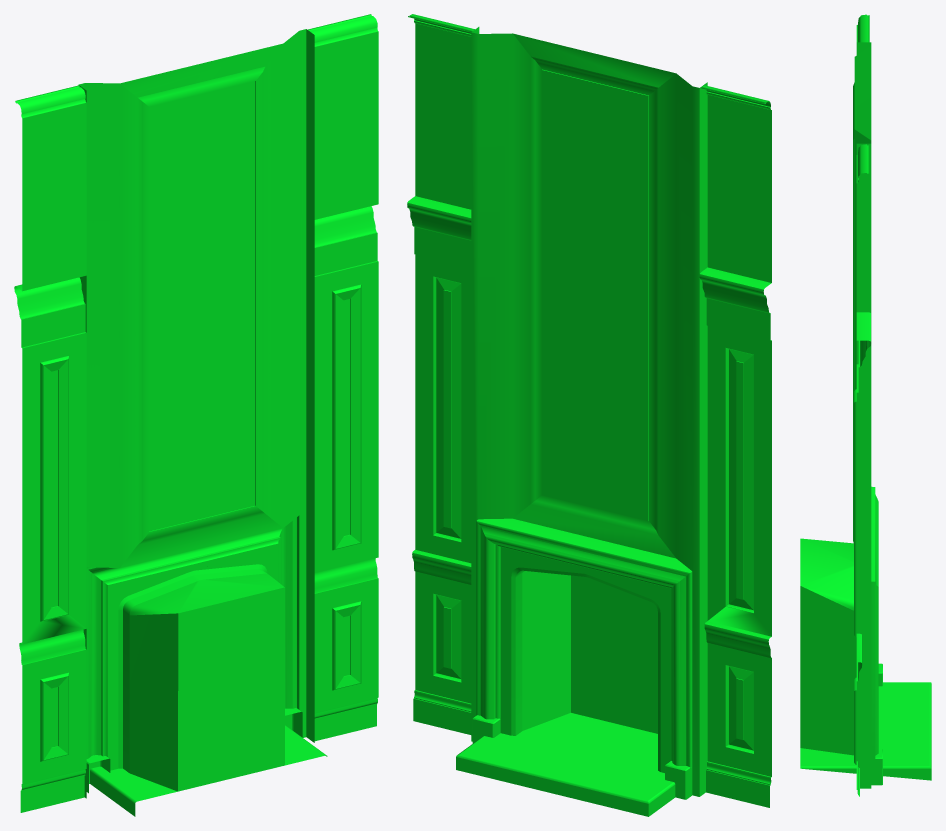
The model's file is AR-Fireplace_01.FBX.
The picture shows the model from 3 angles, left to right: view 1: azimuth 30°, elevation 25°; view 2: azimuth 150°, elevation 25°; view 3: azimuth 270°, elevation 25°; orthographic projection. The views are drawn at different scales.
Visible parts, largest first — view 1: AR-Fireplace_01; view 2: AR-Fireplace_01; view 3: AR-Fireplace_01.
Part boxes in pixels (<box>): AR-Fireplace_01: <box>14,14,378,816</box>; AR-Fireplace_01: <box>407,14,771,816</box>; AR-Fireplace_01: <box>800,14,931,796</box>.
Size of the model in its own units: 200 by 380 by 70.
